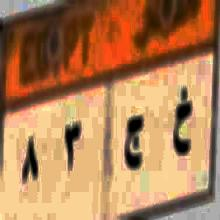3: (65, 114, 82, 172)
8: (20, 134, 40, 183)
jeem: (124, 108, 144, 177)
khaa: (170, 81, 193, 158)
